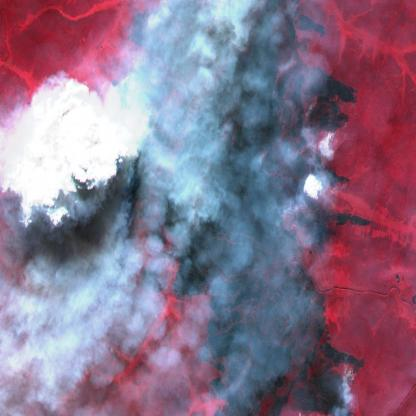fire: (290, 55, 364, 211), (102, 64, 162, 148), (322, 331, 370, 395)
